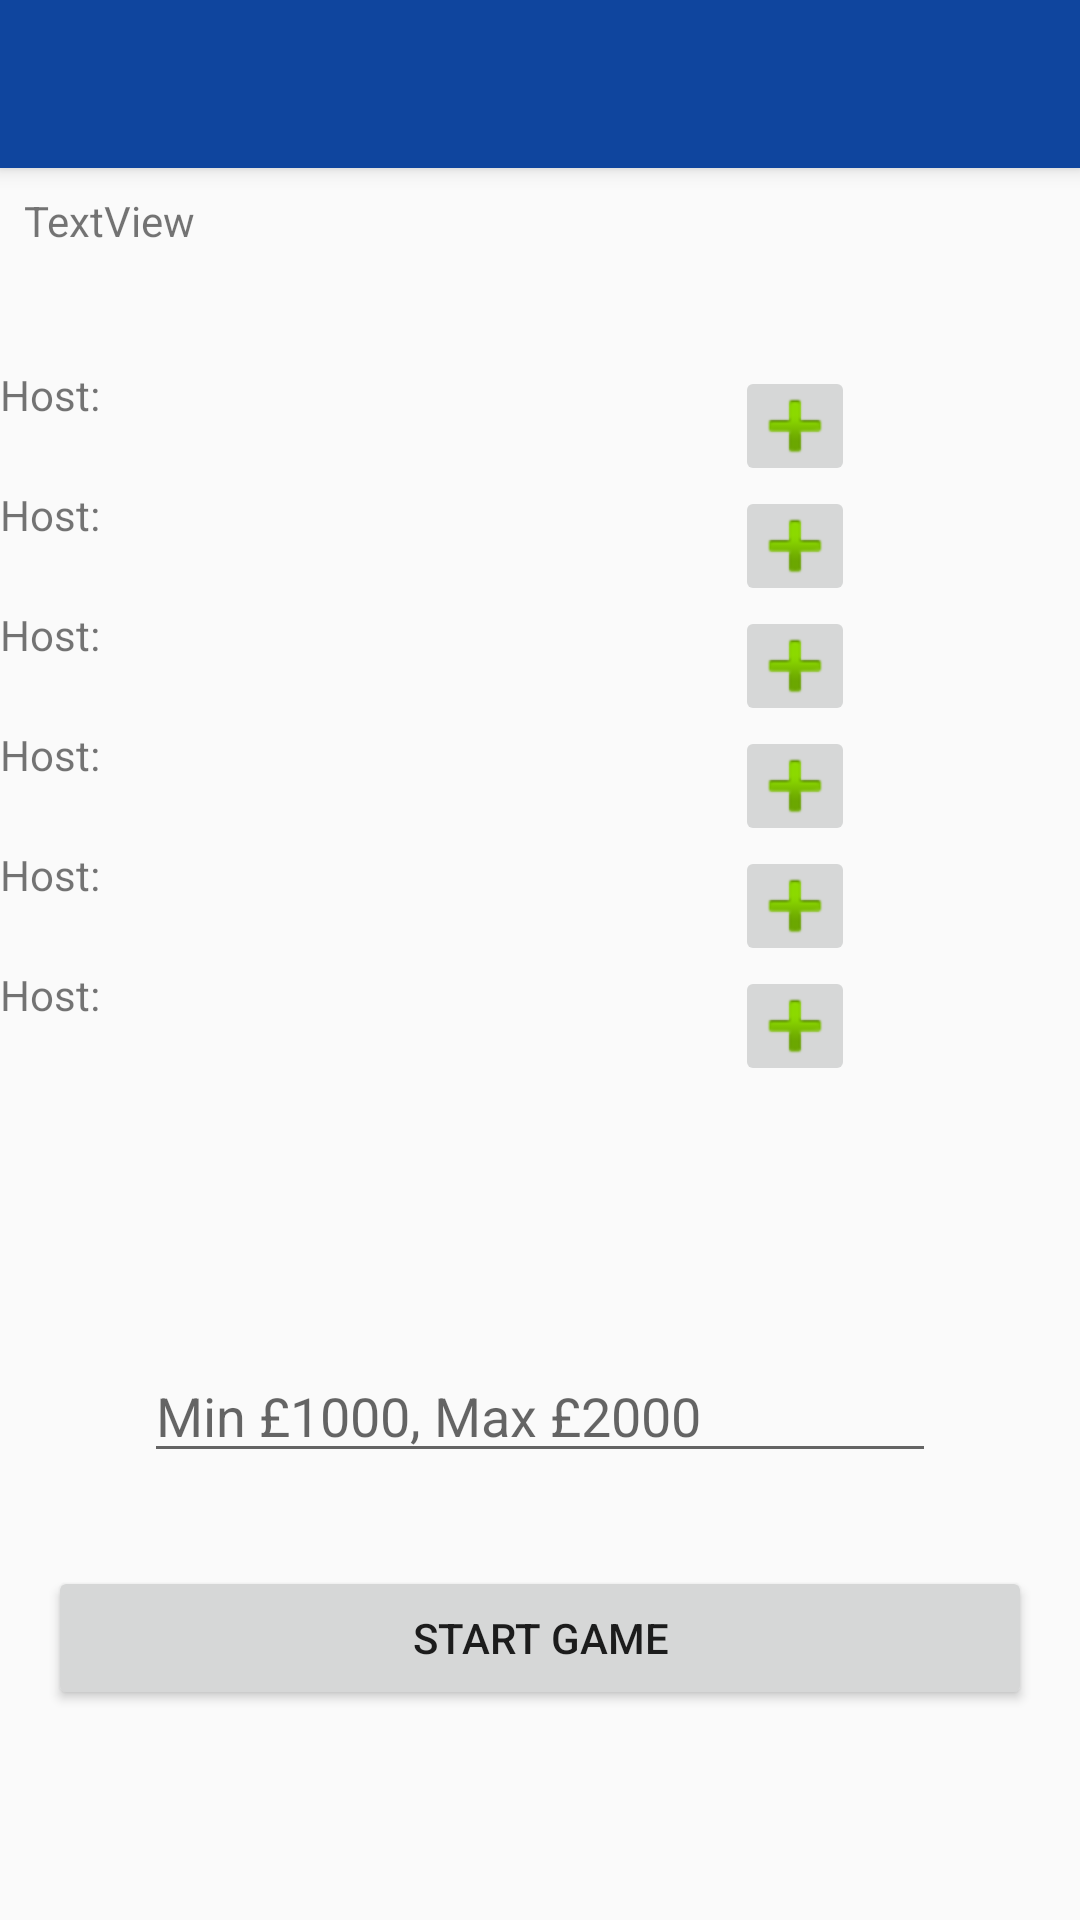

Named icons in this screenshot (1080 × 1920) and their centers, (x=x, y=y):
add: (x=795, y=426), (x=795, y=546), (x=795, y=666), (x=795, y=786), (x=795, y=906), (x=795, y=1026)
